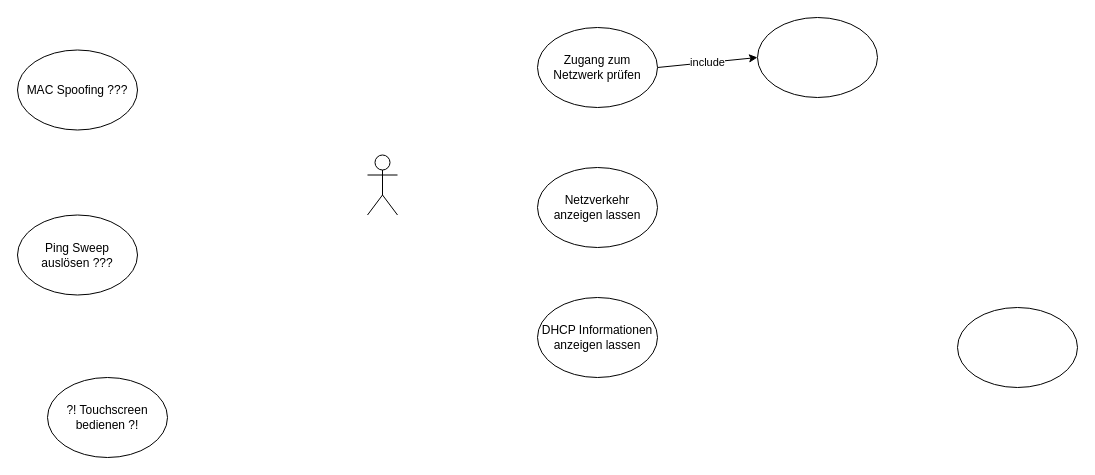
This 1095x475 diagram has some shape labels left out. Here are the shapes that lost their labels. From the top down, the box of each, then its label:
(756, 16, 878, 98): HDCP manuell auslösen
(366, 154, 398, 215): Benutzer
